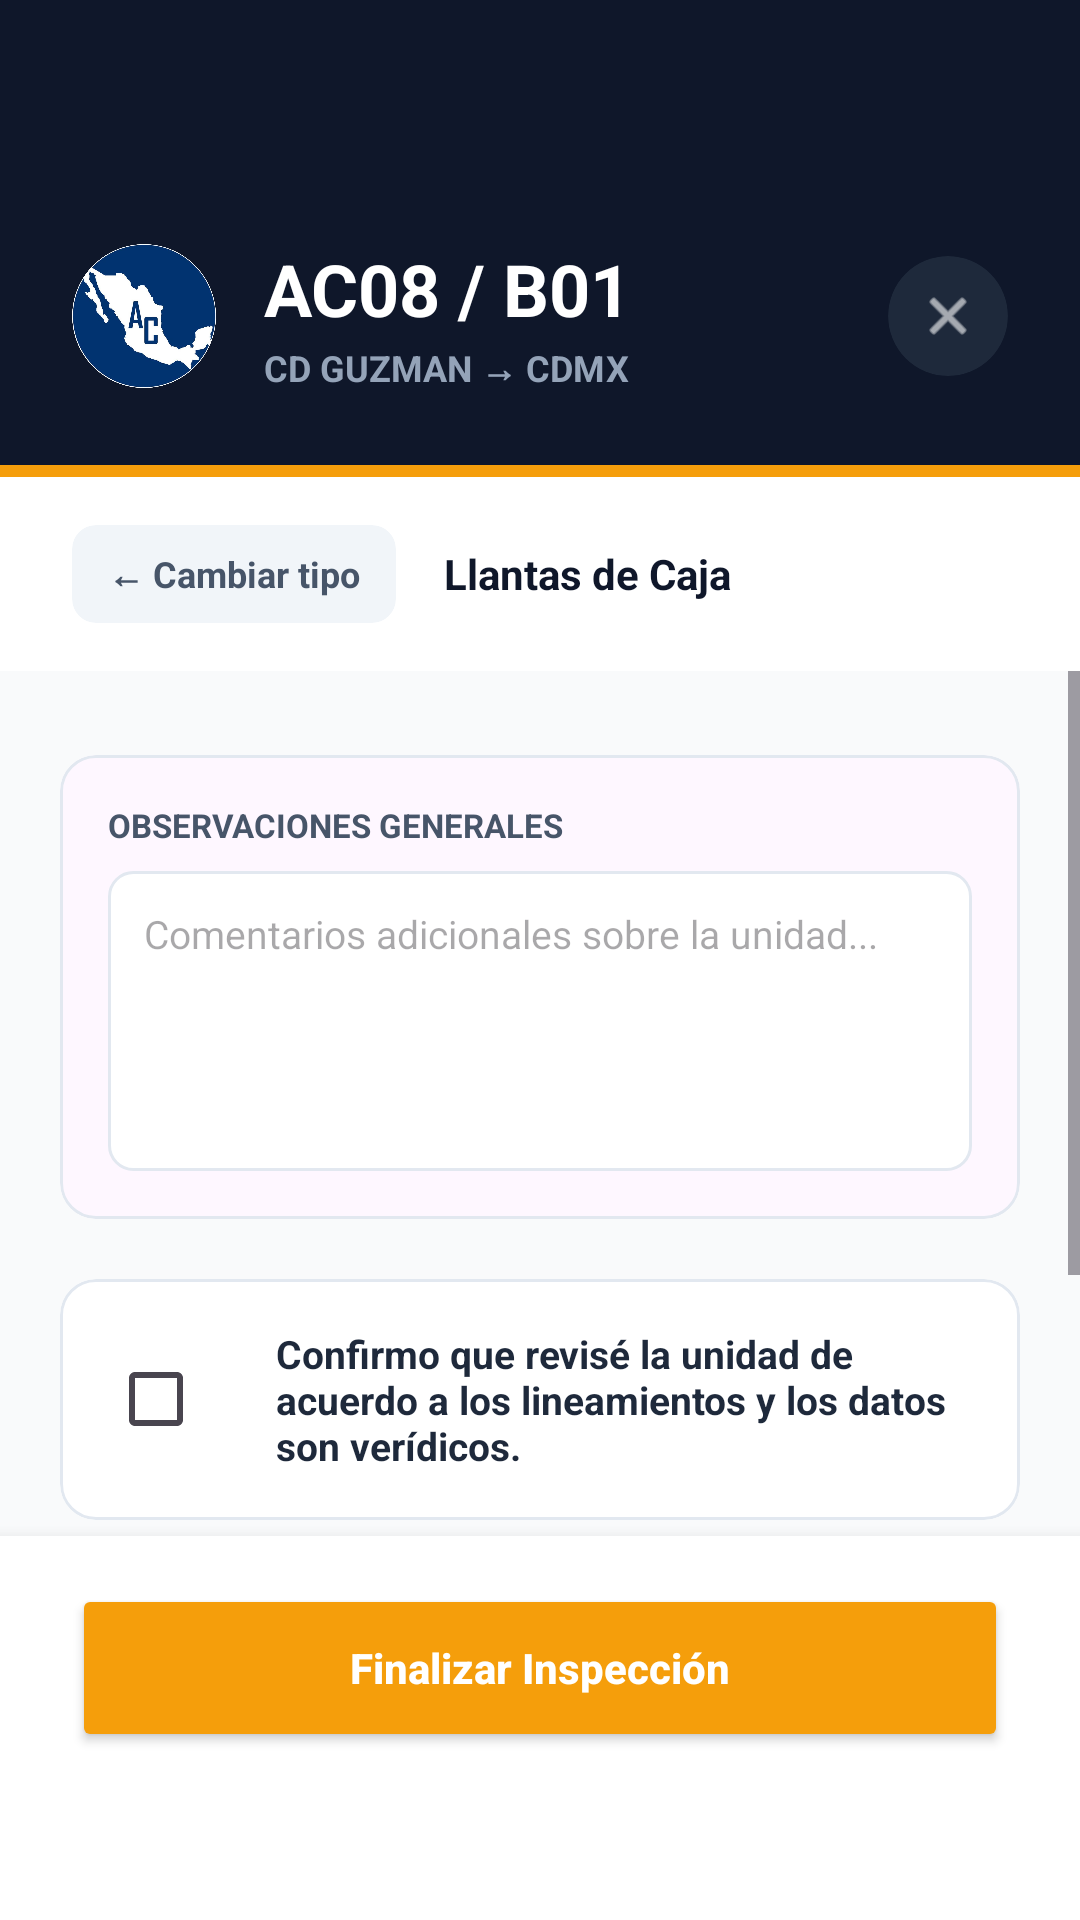

Icon click points for this 1080 × 1920 phone screenshot, format [x,y]:
close clear cancel: [948,316]
